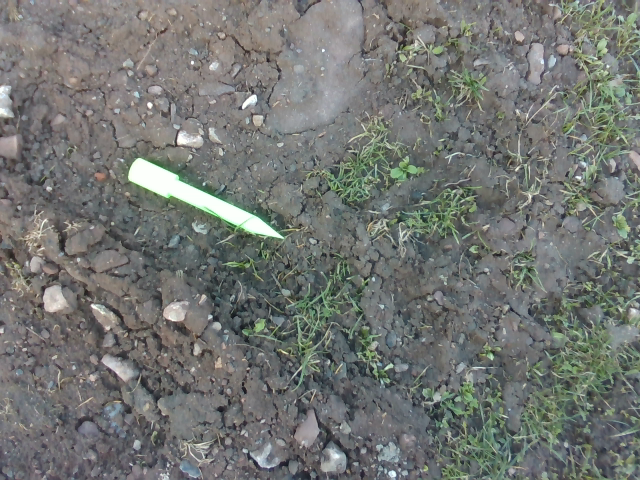Probe: (123, 155, 288, 243)
